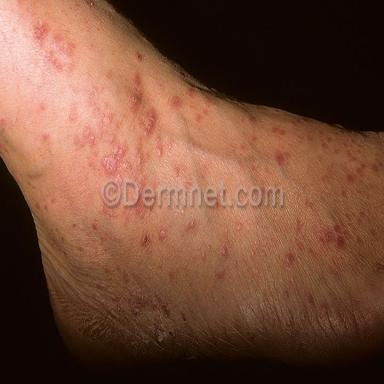lichen: (46, 34, 75, 72), (102, 134, 128, 175), (126, 72, 143, 115), (139, 108, 157, 136), (74, 125, 95, 147), (34, 19, 49, 47), (221, 237, 232, 258), (169, 96, 182, 111), (275, 152, 289, 165), (137, 143, 144, 167), (185, 218, 197, 231), (141, 233, 151, 248), (156, 136, 162, 157), (272, 126, 285, 135), (158, 229, 166, 242)
